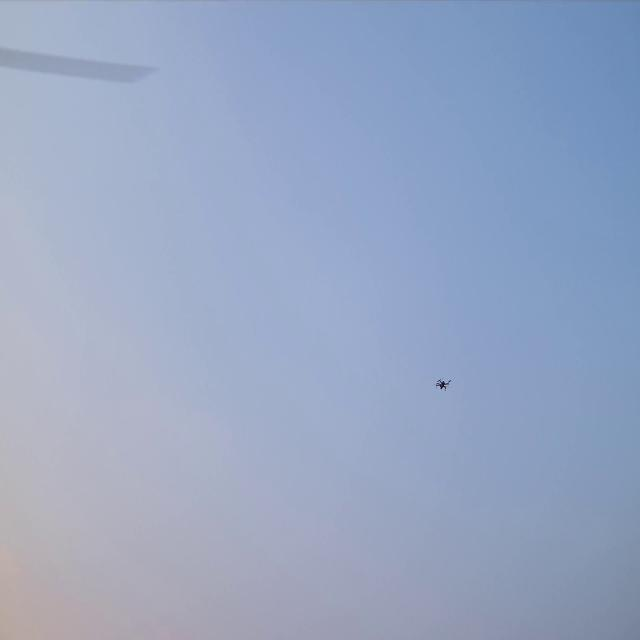UAV: (434, 378, 452, 391)
